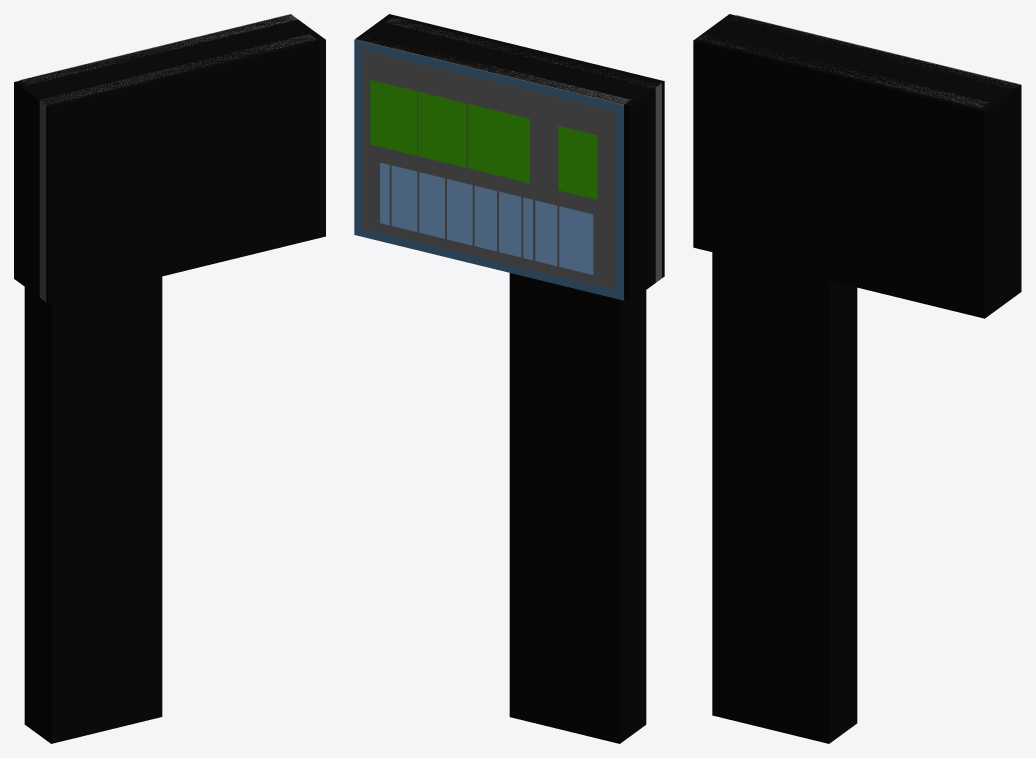
Rendered from s_sound_sign_001.dae.
3 renders of one model, left to right at view 1: azimuth 30°, elevation 25°; view 2: azimuth 150°, elevation 25°; view 3: azimuth 330°, elevation 25°, orthographic. The views are drawn at different scales.
Parts seen in each view (by area): view 1: Colmesh_s_sound_sign_001-1, s_sound_sign_001_L45; view 2: Colmesh_s_sound_sign_001-1, s_sound_sign_001_L45; view 3: Colmesh_s_sound_sign_001-1, s_sound_sign_001_L45.
Part boxes in pixels (x1,y1,x2,y2): Colmesh_s_sound_sign_001-1: (14,14,325,743); s_sound_sign_001_L45: (19,14,314,301); Colmesh_s_sound_sign_001-1: (355,14,664,743); s_sound_sign_001_L45: (354,17,661,300); Colmesh_s_sound_sign_001-1: (693,14,1020,743); s_sound_sign_001_L45: (696,15,1021,291).
Bounding box in the file's own units: 2.32 × 0.5102 × 5.16.
